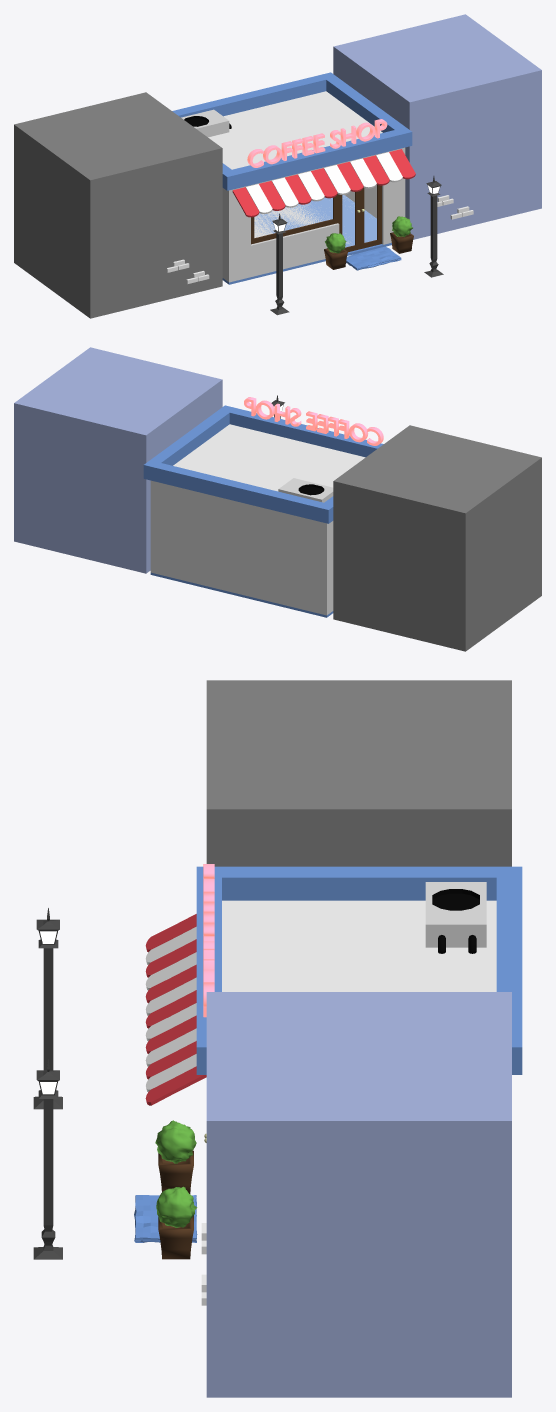
File: shop-coffee-a.glb
The picture shows the model from 3 angles, top to bottom: view 1: azimuth 30°, elevation 25°; view 2: azimuth 150°, elevation 25°; view 3: azimuth 270°, elevation 25°; orthographic projection. The views are drawn at different scales.
Visible parts, largest first — view 1: Cube.005_10, Cube_1, Cube.006_11, Cube.009_14, Cube.003_8, Cube.004_2, Cube.002_7, Cube.001_6; view 2: Cube.005_10, Cube_1, Cube.006_11; view 3: Cube.006_11, Cube.005_10, Cube_1, Cube.009_14, Cube.002_7, Cube.001_6, Cube.004_2, Cube.003_8.
Part boxes in pixels (left/top/right/bottom): Cube.005_10: left=14, top=92, right=222, bottom=318; Cube_1: left=172, top=72, right=415, bottom=284; Cube.006_11: left=333, top=14, right=541, bottom=239; Cube.009_14: left=424, top=176, right=443, bottom=277; Cube.003_8: left=346, top=246, right=401, bottom=270; Cube.004_2: left=270, top=213, right=289, bottom=315; Cube.002_7: left=390, top=216, right=413, bottom=253; Cube.001_6: left=324, top=233, right=347, bottom=269; Cube.005_10: left=333, top=425, right=541, bottom=651; Cube_1: left=143, top=397, right=383, bottom=617; Cube.006_11: left=14, top=347, right=222, bottom=573; Cube.006_11: left=206, top=992, right=511, bottom=1397; Cube.005_10: left=206, top=680, right=511, bottom=866; Cube_1: left=145, top=864, right=522, bottom=1105; Cube.009_14: left=33, top=1058, right=62, bottom=1259; Cube.002_7: left=156, top=1186, right=197, bottom=1259; Cube.001_6: left=155, top=1120, right=196, bottom=1193; Cube.004_2: left=33, top=908, right=62, bottom=1109; Cube.003_8: left=134, top=1195, right=197, bottom=1242.
Size of the model in its own units: 20.5 by 6.02 by 9.6.
